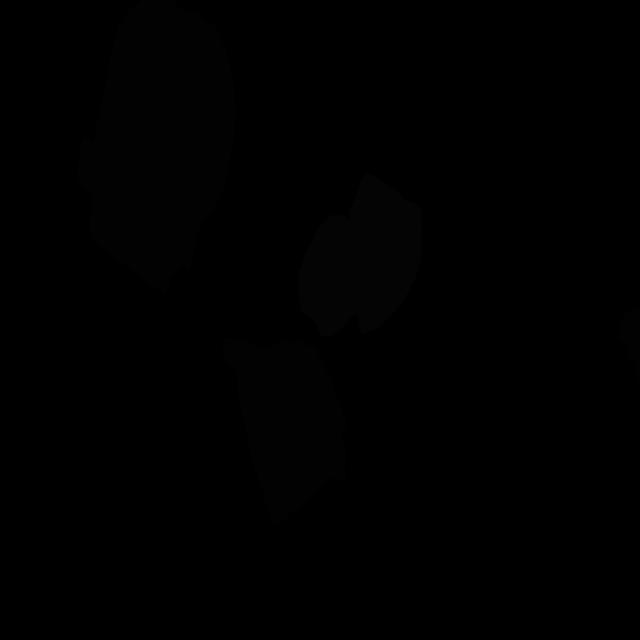cardboard: (77, 0, 236, 296), (222, 337, 348, 524), (620, 305, 640, 385)
soft_plastic: (298, 174, 422, 336)
